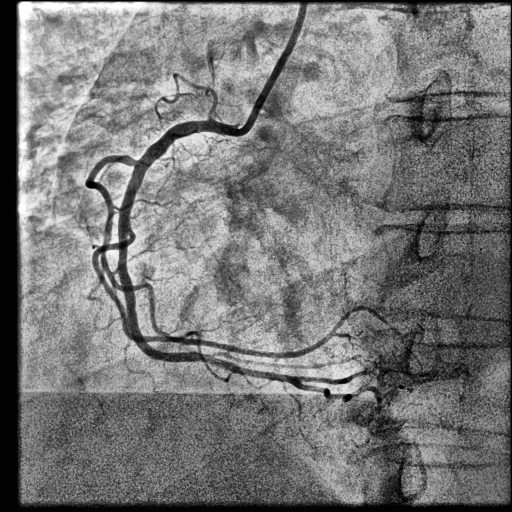pborca: (299, 371, 365, 384)
pda: (297, 383, 381, 402)
rca: (117, 120, 301, 386)
